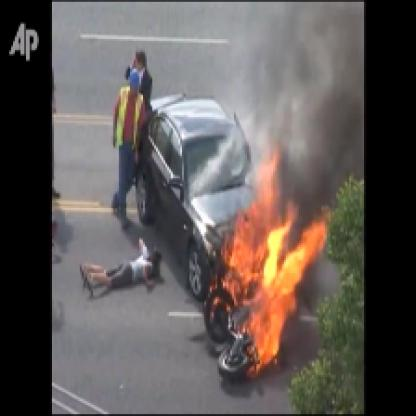Fire: (212, 145, 325, 375)
Smoke: (254, 11, 360, 167)
